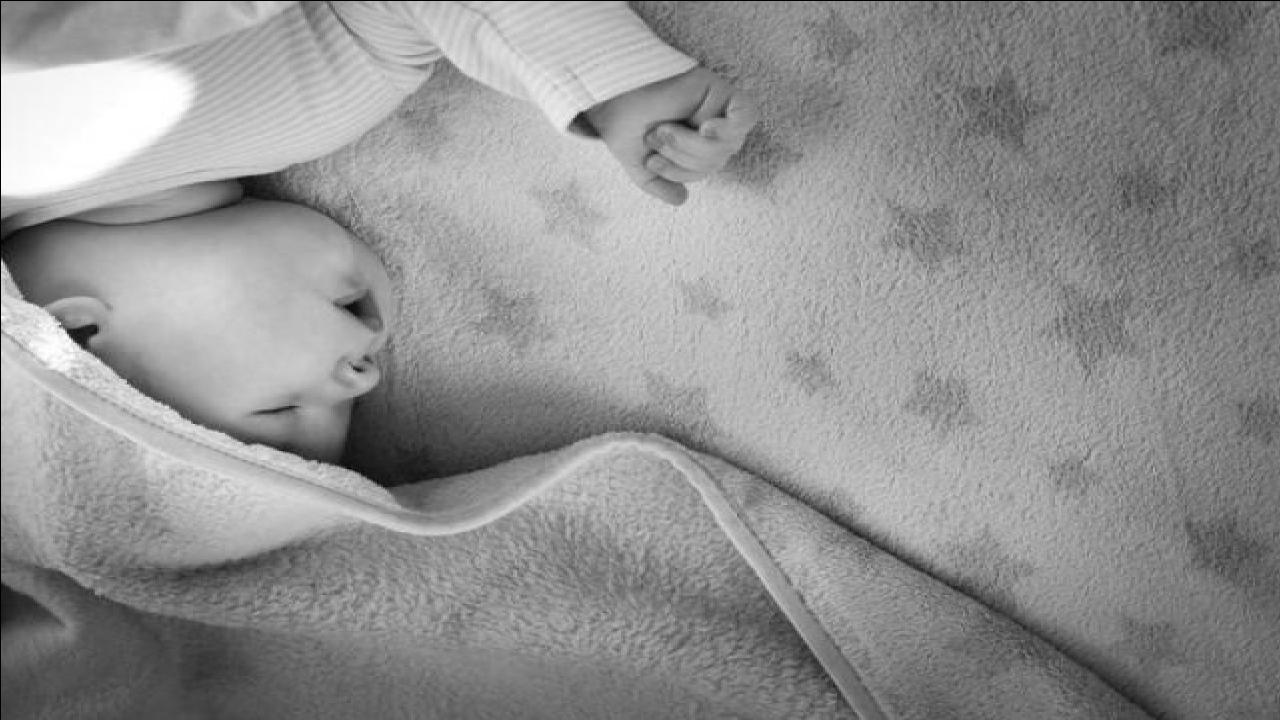hand: (596, 73, 762, 203)
